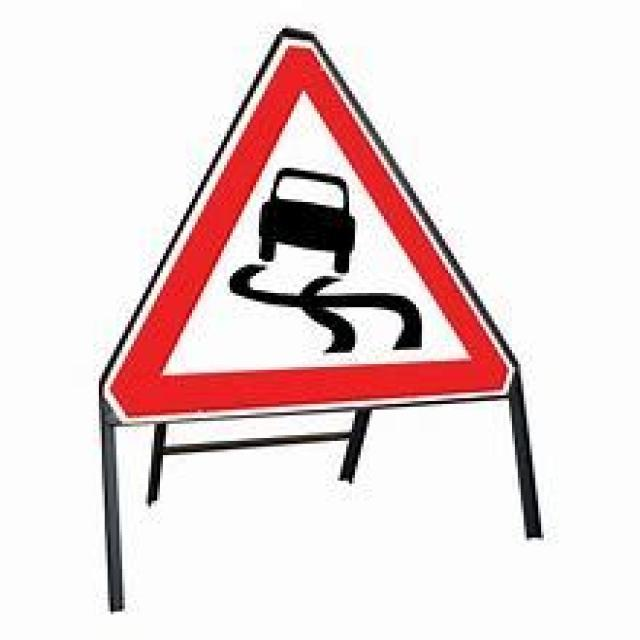slippery road: (97, 26, 522, 421)
